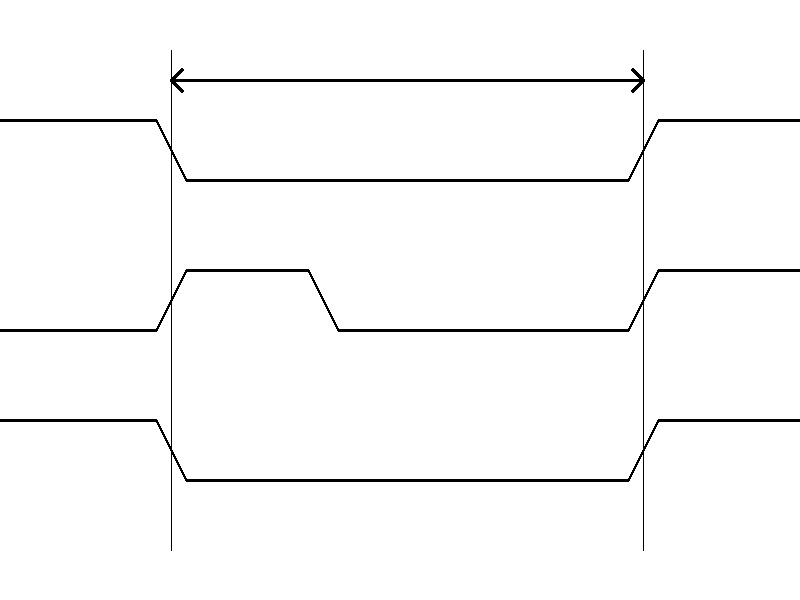double_arrow: (171, 65, 643, 95)
